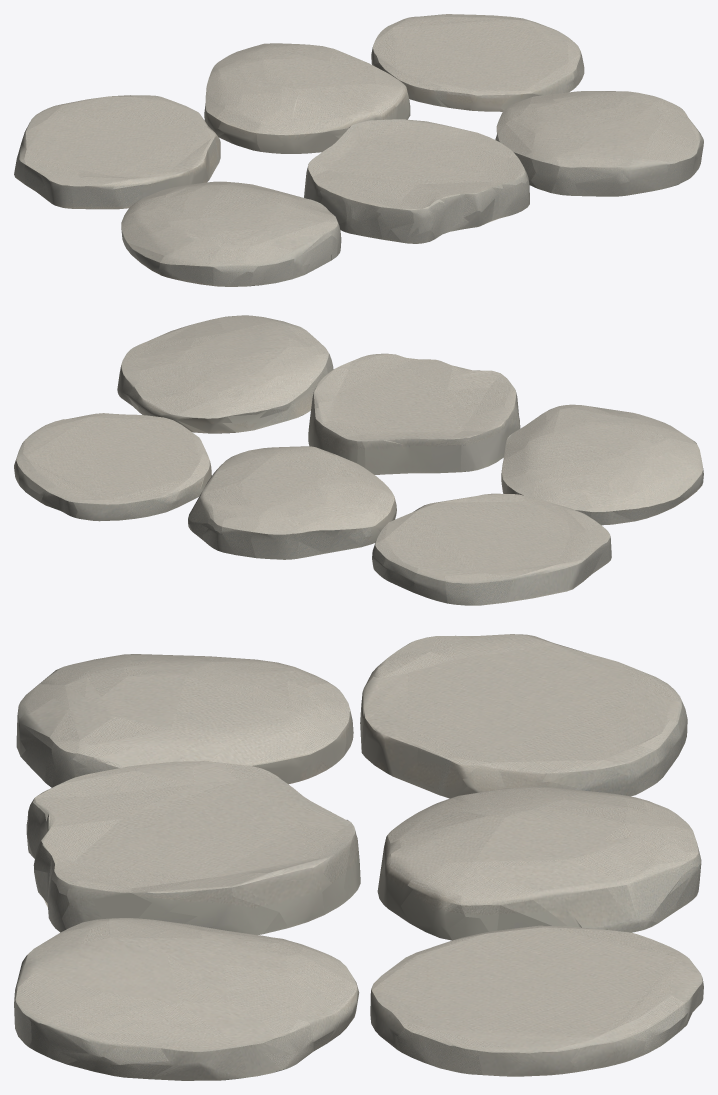
Rendered from stepping_stones.glb.
The picture shows the model from 3 angles, top to bottom: view 1: azimuth 30°, elevation 25°; view 2: azimuth 150°, elevation 25°; view 3: azimuth 270°, elevation 25°; orthographic projection. The views are drawn at different scales.
Size of the model in its own units: 1.9 by 0.1128 by 1.34.
1 material, 1 textured.
